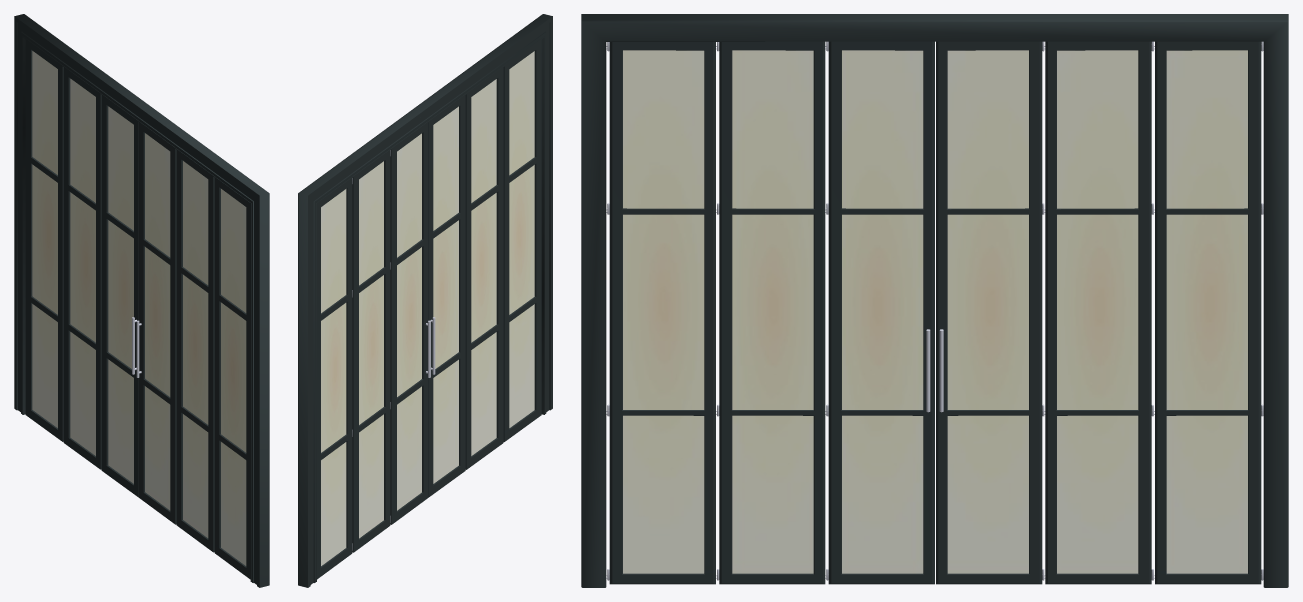
Rendered from aws_FoldingDoor_01_visual.DAE.
3 views of the same model, side by side, from view 1: azimuth 30°, elevation 25°; view 2: azimuth 150°, elevation 25°; view 3: azimuth 270°, elevation 25° (orthographic). The views are drawn at different scales.
Visible parts, largest first — view 1: aws_FoldingDoor_01_visual; view 2: aws_FoldingDoor_01_visual; view 3: aws_FoldingDoor_01_visual.
Part boxes in pixels (x1=…): aws_FoldingDoor_01_visual: x1=14, y1=14, x2=269, y2=587; aws_FoldingDoor_01_visual: x1=298, y1=14, x2=552, y2=587; aws_FoldingDoor_01_visual: x1=581, y1=14, x2=1288, y2=587.
Size of the model in its own units: 9 by 250 by 221.
1 material, 1 textured.
